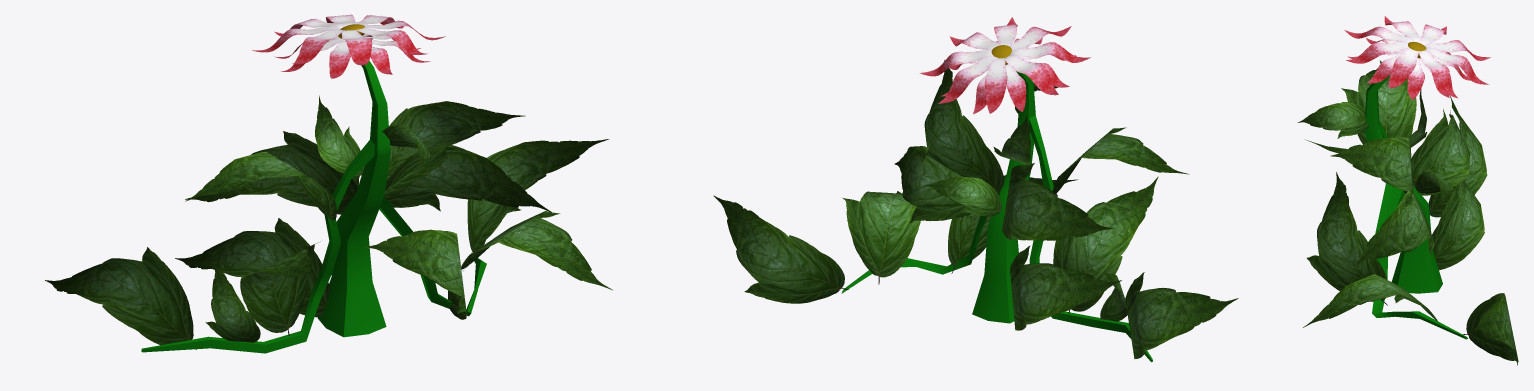
Rendered from Flower_V3_compressed.fbx.
3 views of the same model, side by side, from view 1: azimuth 30°, elevation 25°; view 2: azimuth 150°, elevation 25°; view 3: azimuth 270°, elevation 25° (orthographic). The views are drawn at different scales.
Parts seen in each view (by area): view 1: pCube2; view 2: pCube2; view 3: pCube2.
Boxes of the visible parts, box(x1,y1,x2,y2) form: pCube2: box(45, 14, 612, 353); pCube2: box(713, 17, 1238, 362); pCube2: box(1297, 16, 1518, 365).
Size of the model in its own units: 7.67 by 3.92 by 3.1.
4 materials, 2 textured.
